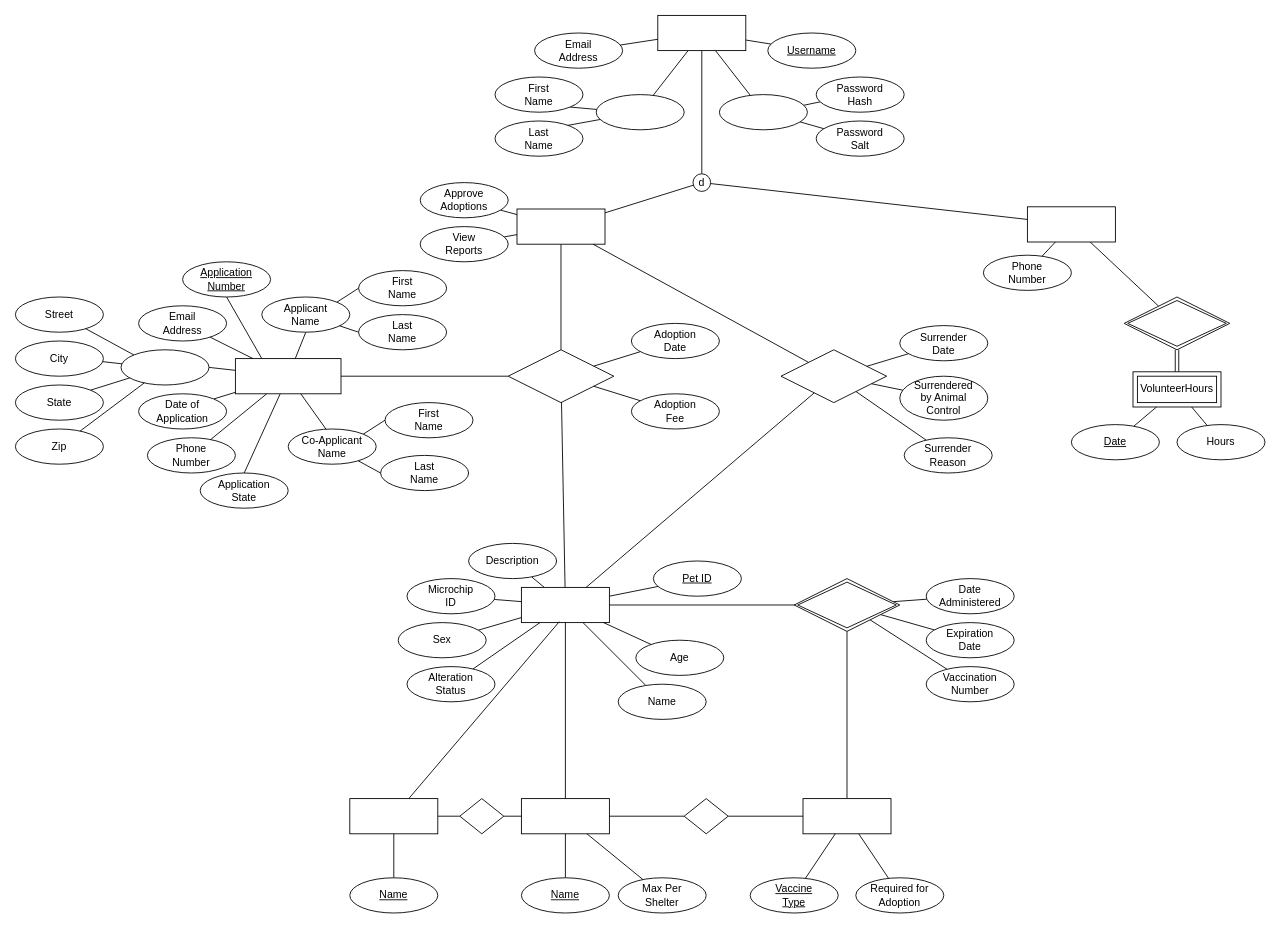
This 1280x928 diagram has some shape labels left out. Here are the shapes that lost their labels. From the top down, the centre of each, then its label:
pixel 701 33: User
pixel 639 112: User's Full Name
pixel 763 112: Password
pixel 560 226: Employee
pixel 1071 224: Volunteer
pixel 1176 323: Volunteering
pixel 164 367: Address
pixel 288 376: AdoptionApplication
pixel 560 376: Adoption
pixel 833 376: Surrender
pixel 565 605: Animal
pixel 846 604: Vaccination
pixel 393 816: Breed
pixel 565 816: Species
pixel 846 816: Vaccine
